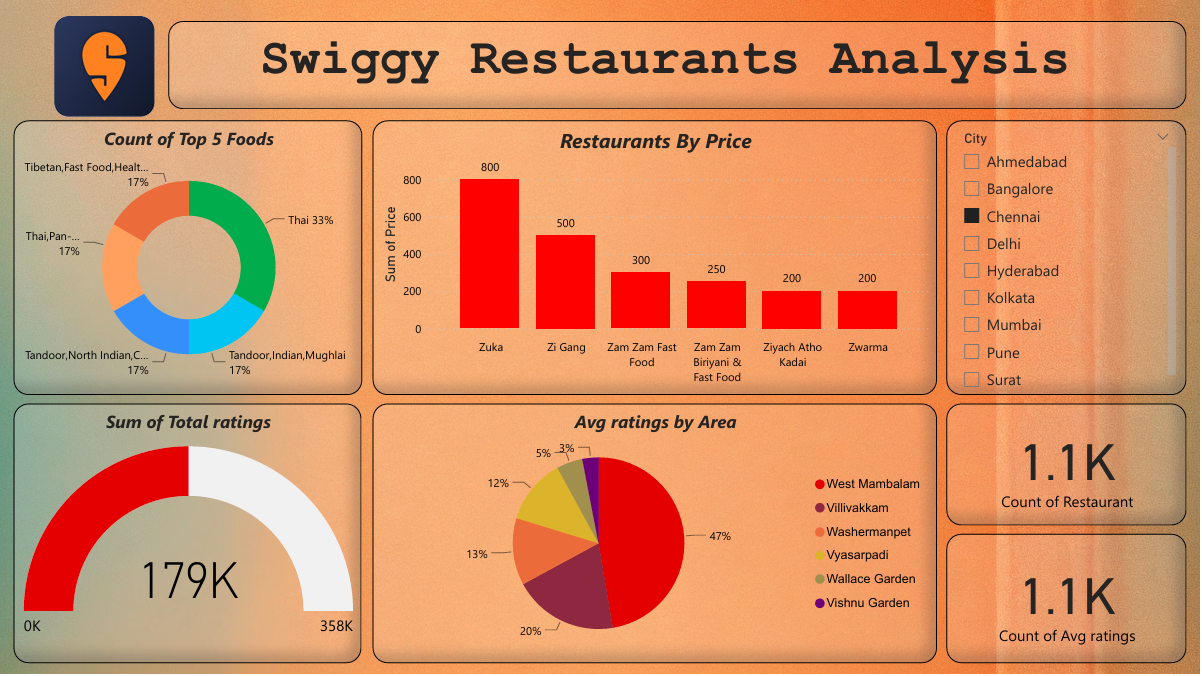

This screenshot's page, from the dashboard's own definition file:
{"tool":"powerbi","page":{"name":"Page 1","canvas":[1280,720],"ordinal":0},"visuals":[{"type":"textbox","box":[179.9,24.4,1085.9,93.8],"z":0},{"type":"image","box":[0,0,223.6,143.9],"z":1000},{"type":"donutChart","title":"Count of Top 5 Foods","fields":{"Category":["swiggy.Food type"],"Y":["CountNonNull(swiggy.Food type)"]},"box":[15.4,129.8,371.4,293],"z":2000},{"type":"slicer","fields":{"Values":["swiggy.City"]},"box":[1010.1,129.8,255.7,293],"z":3000},{"type":"gauge","fields":{"Y":["Sum(swiggy.Total ratings)"]},"box":[15.4,431.8,370.1,277.6],"z":4000},{"type":"card","fields":{"Values":["CountNonNull(swiggy.Restaurant)"]},"box":[1010.1,431.8,255.7,129.8],"z":4002},{"type":"clusteredColumnChart","title":"Restaurants By Price","fields":{"Category":["swiggy.Restaurant"],"Y":["Sum(swiggy.Price)"]},"box":[398.4,129.8,601.4,293],"z":4003},{"type":"pieChart","title":" Avg ratings by Area","fields":{"Y":["Sum(swiggy.Avg ratings)"],"Category":["swiggy.Area"]},"box":[398.4,431.8,601.4,277.6],"z":4004},{"type":"card","fields":{"Values":["CountNonNull(swiggy.Avg ratings)"]},"box":[1010.1,570.6,255.7,138.8],"z":4005}]}

Visuals, with their boxes in screenshot pixels (x1, y1, x2, y2), scaled from the page's 1280x720 canvas onto the 1202x676 screenshot:
textbox: (169,23,1189,111)
image: (0,0,210,135)
"Count of Top 5 Foods" donutChart: (14,122,363,397)
slicer - swiggy.City: (949,122,1189,397)
gauge - Sum(swiggy.Total ratings): (14,405,362,666)
card - CountNonNull(swiggy.Restaurant): (949,405,1189,527)
"Restaurants By Price" clusteredColumnChart: (374,122,939,397)
" Avg ratings by Area" pieChart: (374,405,939,666)
card - CountNonNull(swiggy.Avg ratings): (949,536,1189,666)
